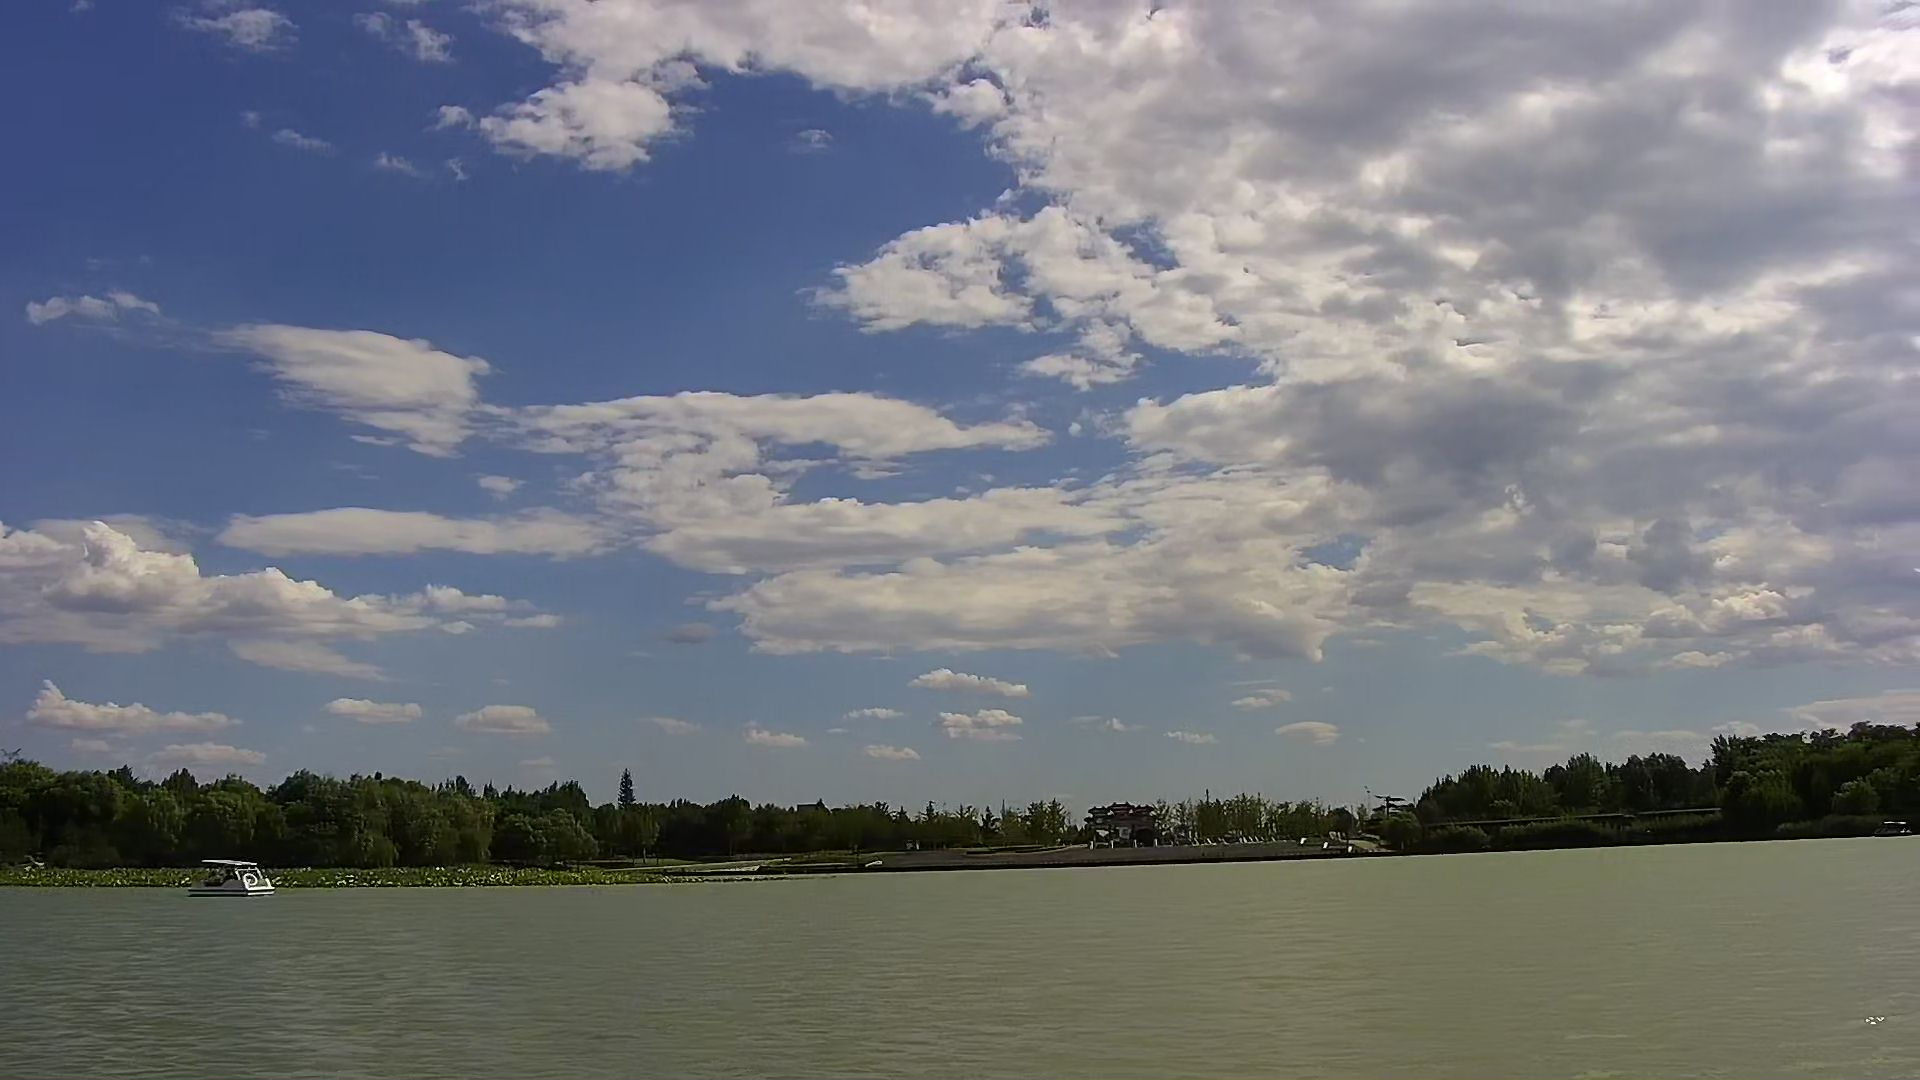boat: (179, 855, 277, 899)
